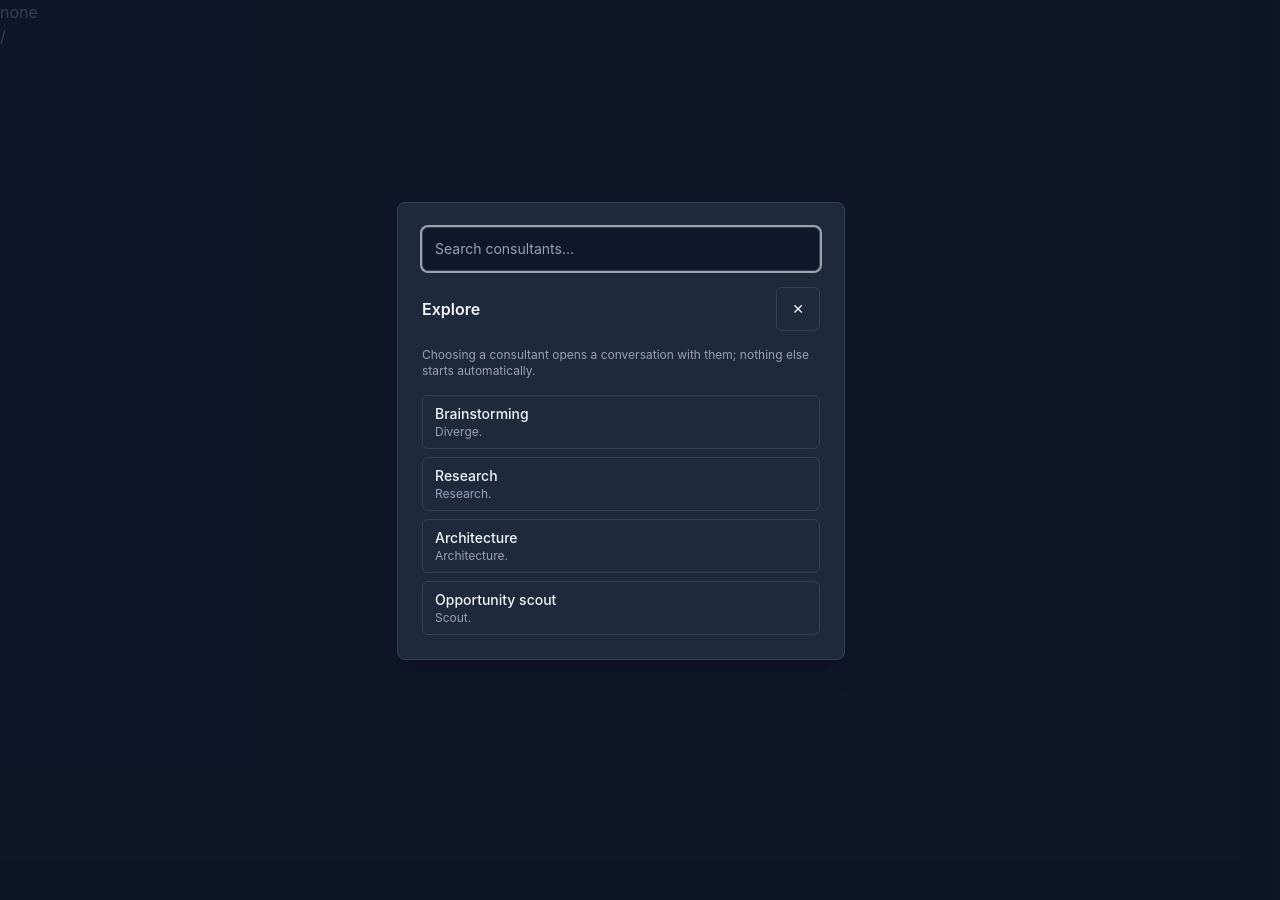
CommandPalette — explore-consultant step › filters consultants by typed text
The image size is (1280, 900).
Expected: the button with test id "palette-consultant-research" is shown, [422, 457, 820, 511]
Type "research" into the field with test id "list-chooser-filter". click: (621, 249)
box: [422, 227, 820, 271]
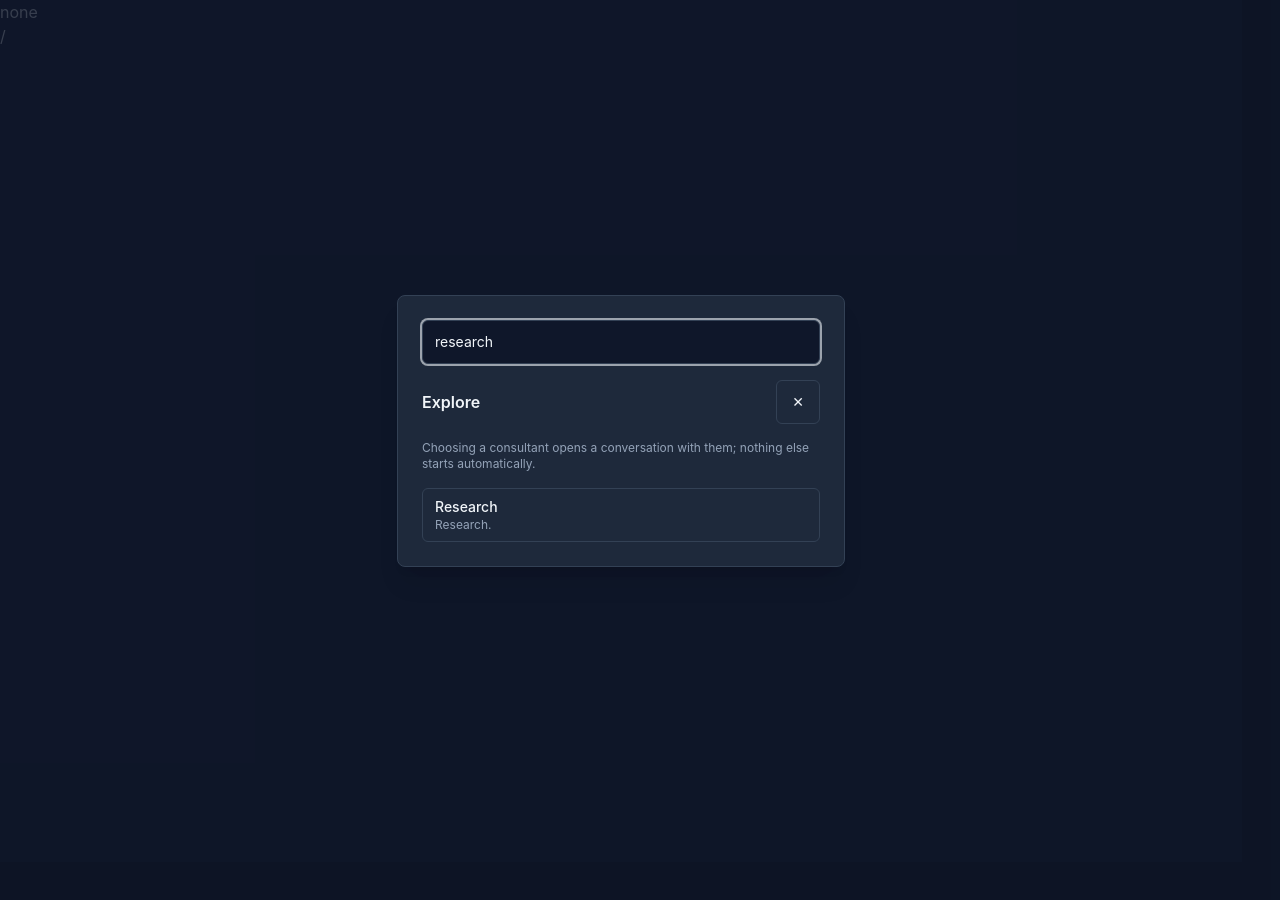
Expected: the button with test id "palette-consultant-research" is shown, [422, 488, 820, 542]
Now the button with test id "palette-consultant-architecture" is gone
